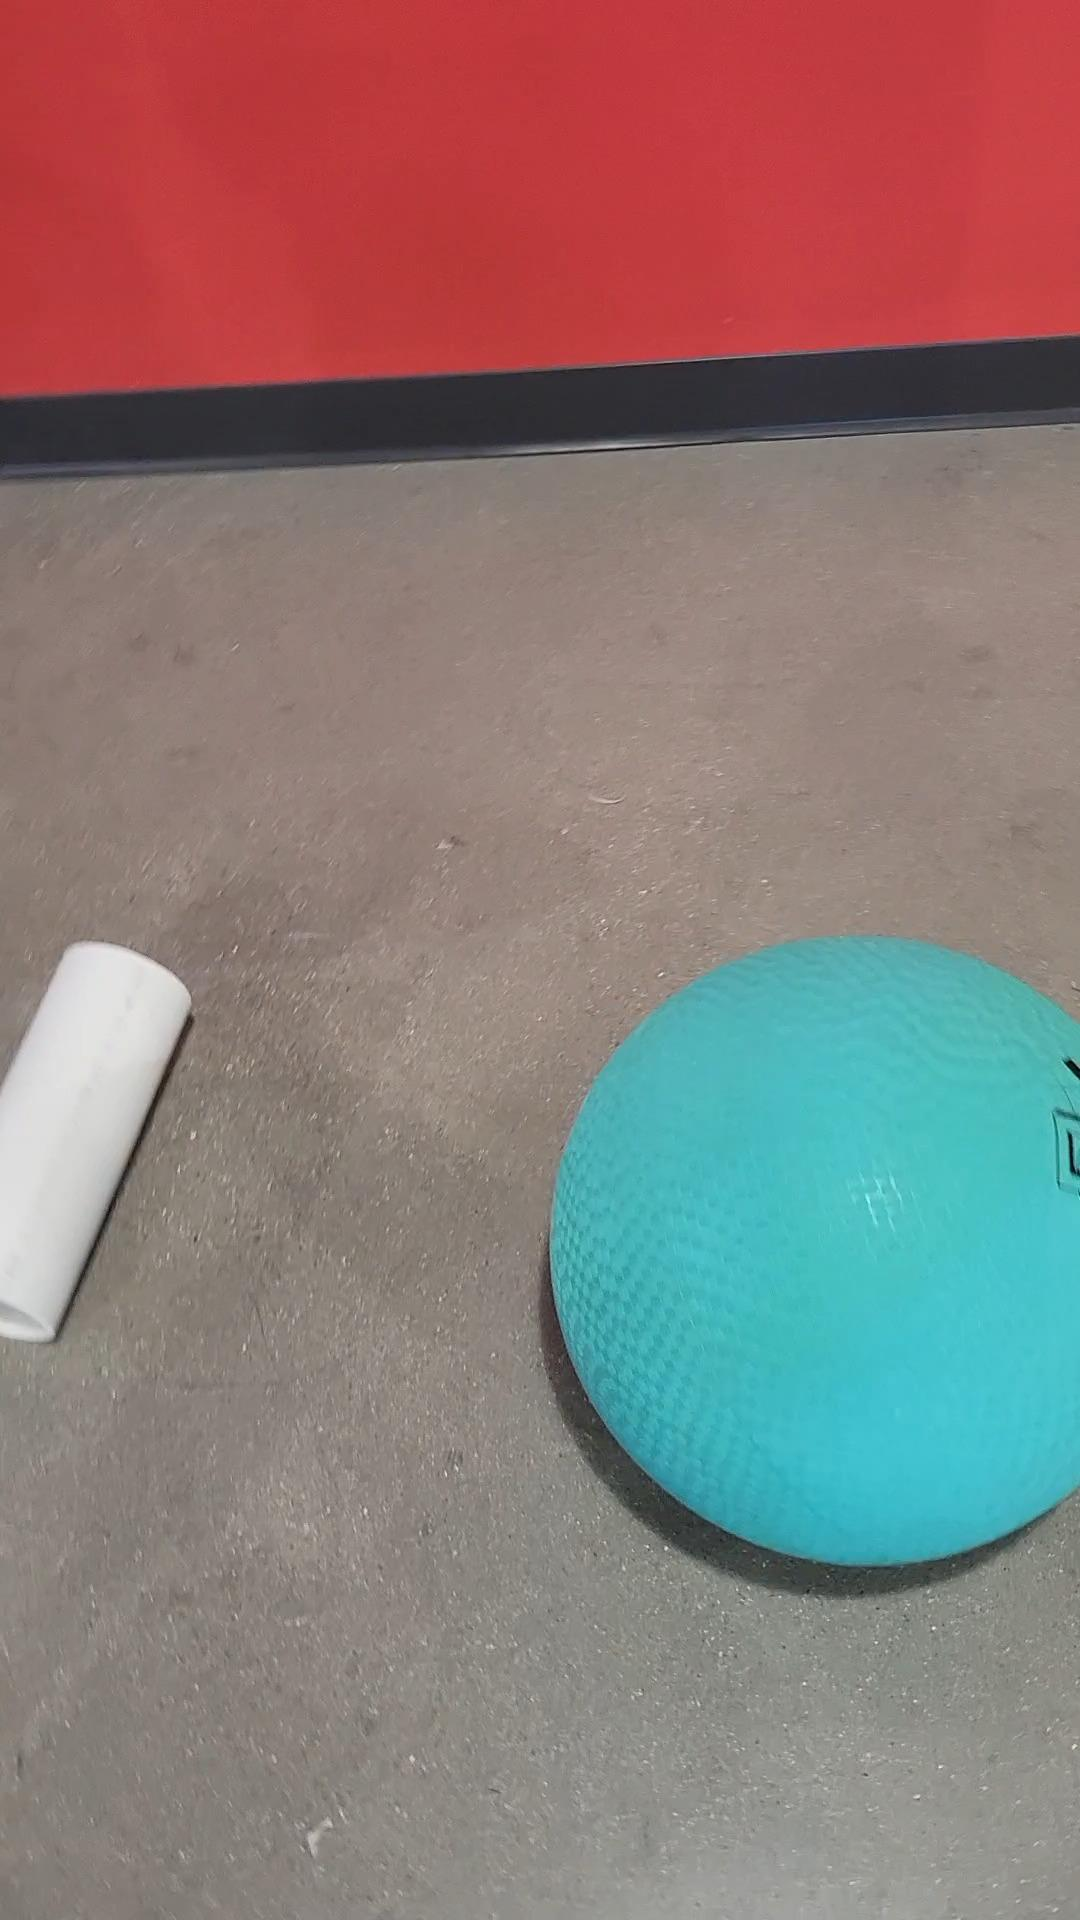algae: (531, 920, 1080, 1593)
coral: (0, 911, 211, 1365)
